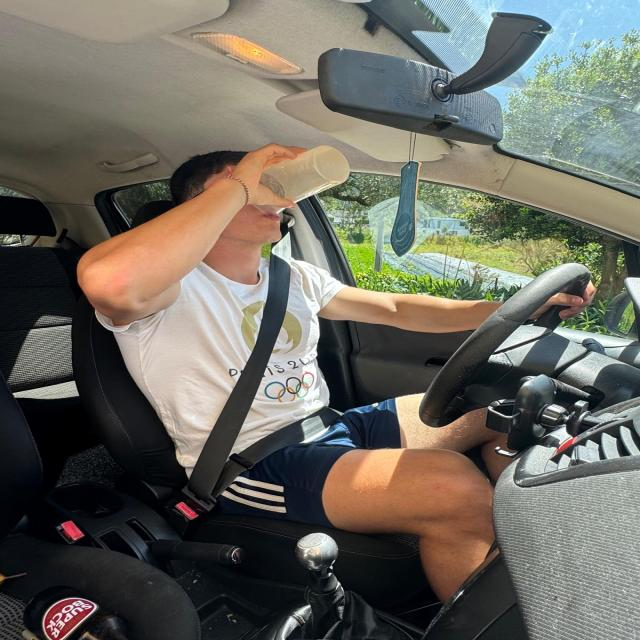Drinking: (223, 148, 378, 228)
Seatbelt: (174, 232, 381, 519)
